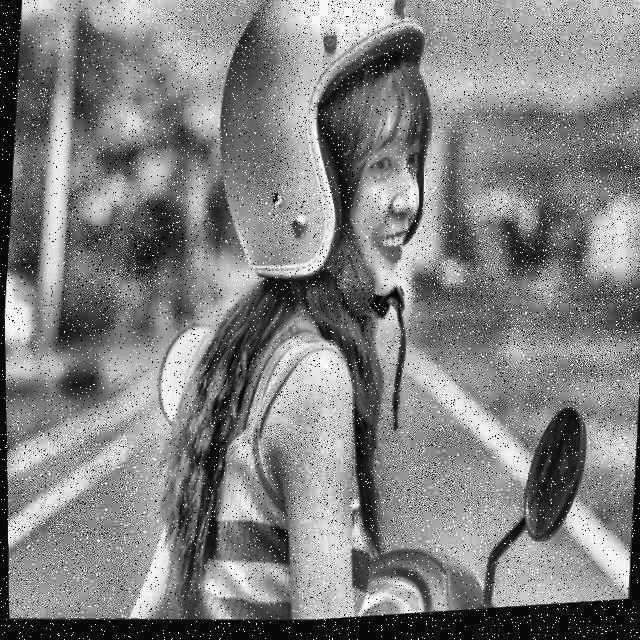Helmet: (198, 0, 445, 343)
